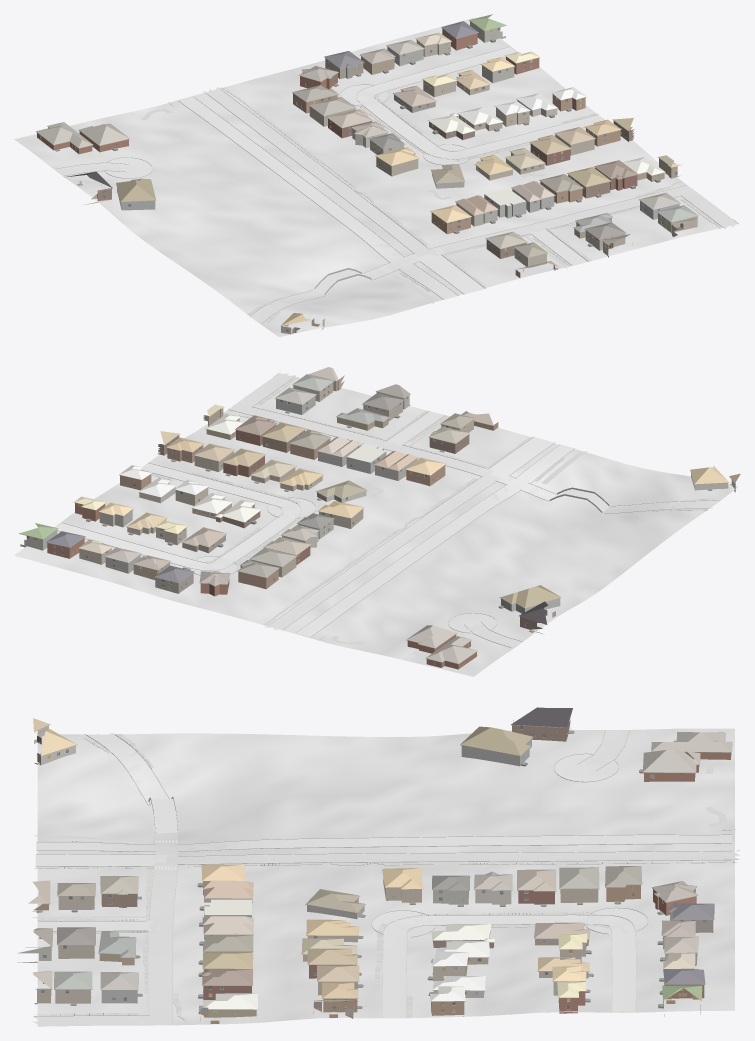
The picture shows the model from 3 angles, top to bottom: view 1: azimuth 30°, elevation 25°; view 2: azimuth 150°, elevation 25°; view 3: azimuth 270°, elevation 25°; orthographic projection. The views are drawn at different scales.
Parts seen in each view (by area): view 1: ground, roof, concrete, wall, asphalt, wall_stucco, curb, walk, detail, mark_w, glass; view 2: ground, roof, concrete, wall, asphalt, wall_stucco, curb, walk, detail, mark_w; view 3: ground, roof, concrete, asphalt, wall, curb, walk, wall_stucco, detail, mark_w, wall_stone, mark_y (+2 smaller).
Boxes of the visible parts, <box> form: ground: <box>14,18,738,337</box>; roof: <box>36,14,698,326</box>; concrete: <box>57,47,736,322</box>; wall: <box>37,28,679,277</box>; asphalt: <box>180,87,484,299</box>; wall_stucco: <box>117,21,697,334</box>; curb: <box>56,46,738,323</box>; walk: <box>74,87,721,323</box>; detail: <box>36,20,701,332</box>; mark_w: <box>180,88,698,299</box>; glass: <box>76,27,677,331</box>; ground: <box>14,373,738,676</box>; roof: <box>19,367,740,663</box>; concrete: <box>56,373,716,647</box>; wall: <box>47,375,542,669</box>; asphalt: <box>266,437,609,636</box>; wall_stucco: <box>20,382,728,613</box>; curb: <box>57,373,719,647</box>; walk: <box>151,377,715,660</box>; detail: <box>19,374,734,666</box>; mark_w: <box>240,401,573,636</box>; ground: <box>37,728,734,1026</box>; roof: <box>28,707,732,1012</box>; concrete: <box>32,730,647,1026</box>; asphalt: <box>35,798,739,866</box>; wall: <box>32,719,731,1017</box>; curb: <box>34,729,739,1024</box>; walk: <box>31,734,735,1024</box>; wall_stucco: <box>34,739,700,1016</box>; detail: <box>25,720,732,1021</box>; mark_w: <box>36,835,738,1024</box>; wall_stone: <box>17,725,364,962</box>; mark_y: <box>36,843,737,856</box>.
Size of the model in its own units: 263 by 21.29 by 261.
